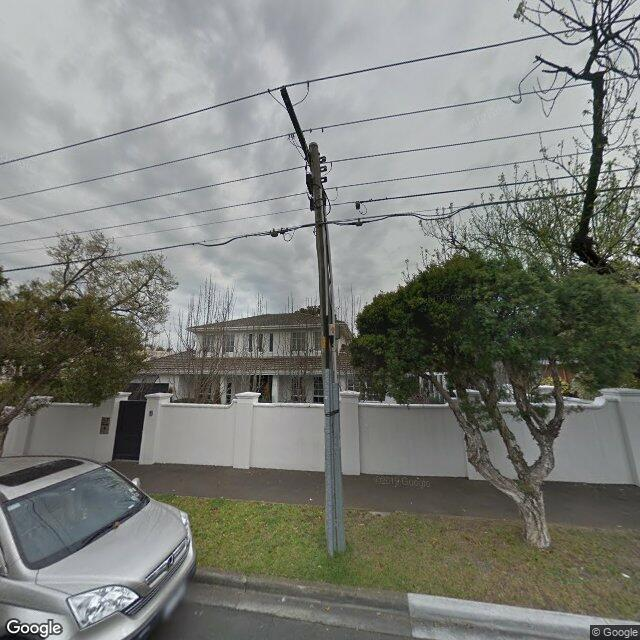crossarm: (267, 81, 311, 167)
timber-pole: (309, 142, 345, 556)
